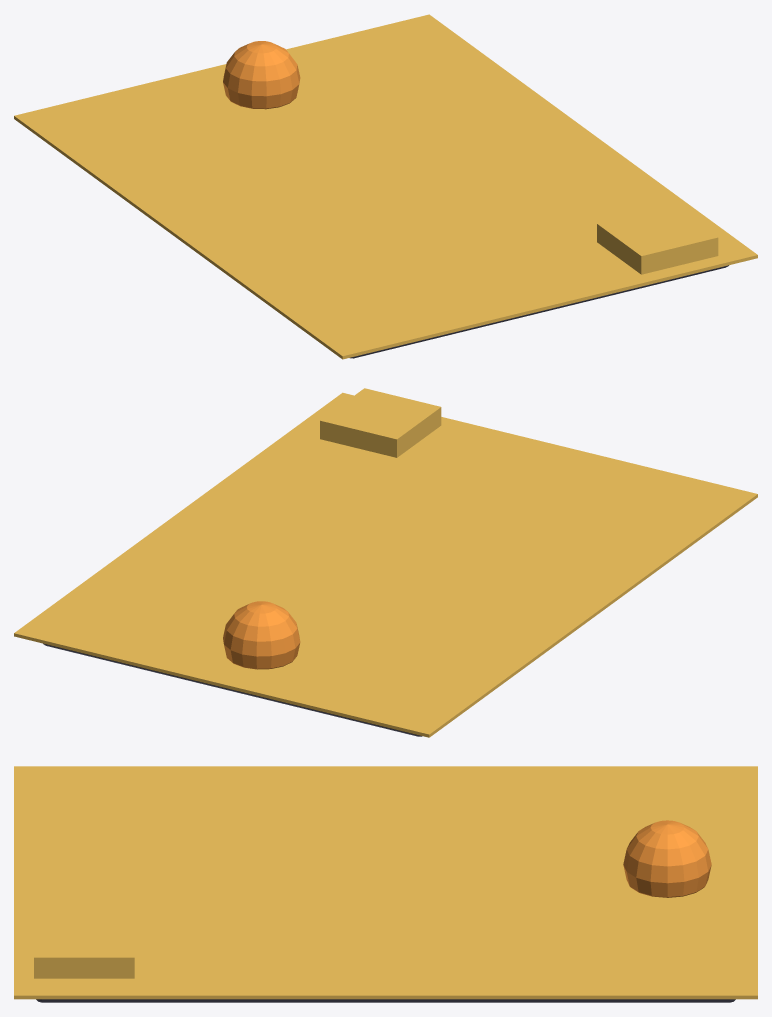
File: aetherbeasts_card.glb
3 views of the same model, one above another, from view 1: azimuth 30°, elevation 25°; view 2: azimuth 150°, elevation 25°; view 3: azimuth 270°, elevation 25° (orthographic). The views are drawn at different scales.
Parts seen in each view (by area): view 1: CardFrame, PowerPlinth, ElementGem, CardBody; view 2: CardFrame, PowerPlinth, ElementGem, CardBody; view 3: CardFrame, PowerPlinth, ElementGem, CardBody.
Boxes of the visible parts, bbox=[...] form: CardFrame: bbox=[14, 14, 757, 359]; PowerPlinth: bbox=[597, 205, 718, 274]; ElementGem: bbox=[223, 41, 300, 109]; CardBody: bbox=[350, 265, 728, 358]; CardFrame: bbox=[14, 392, 757, 737]; PowerPlinth: bbox=[320, 388, 441, 457]; ElementGem: bbox=[223, 601, 300, 669]; CardBody: bbox=[43, 643, 422, 736]; CardFrame: bbox=[14, 766, 757, 999]; PowerPlinth: bbox=[34, 915, 134, 978]; ElementGem: bbox=[623, 820, 711, 897]; CardBody: bbox=[36, 999, 735, 1002].
Bounding box in the file's own units: 2.7 × 0.44 × 3.7.
